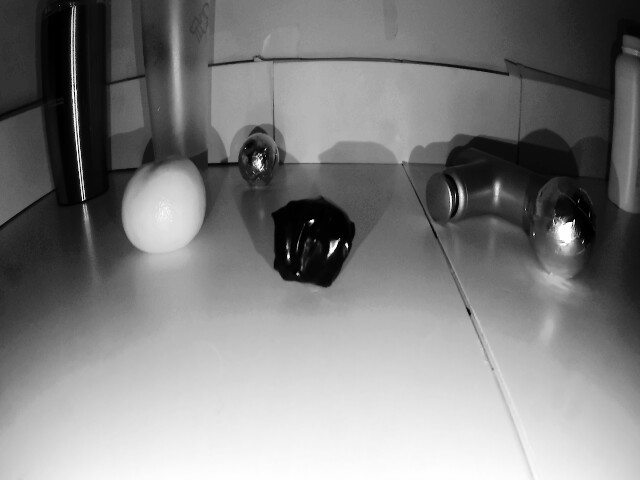black: (273, 192, 359, 289)
silver: (532, 180, 596, 279), (240, 131, 281, 193)
